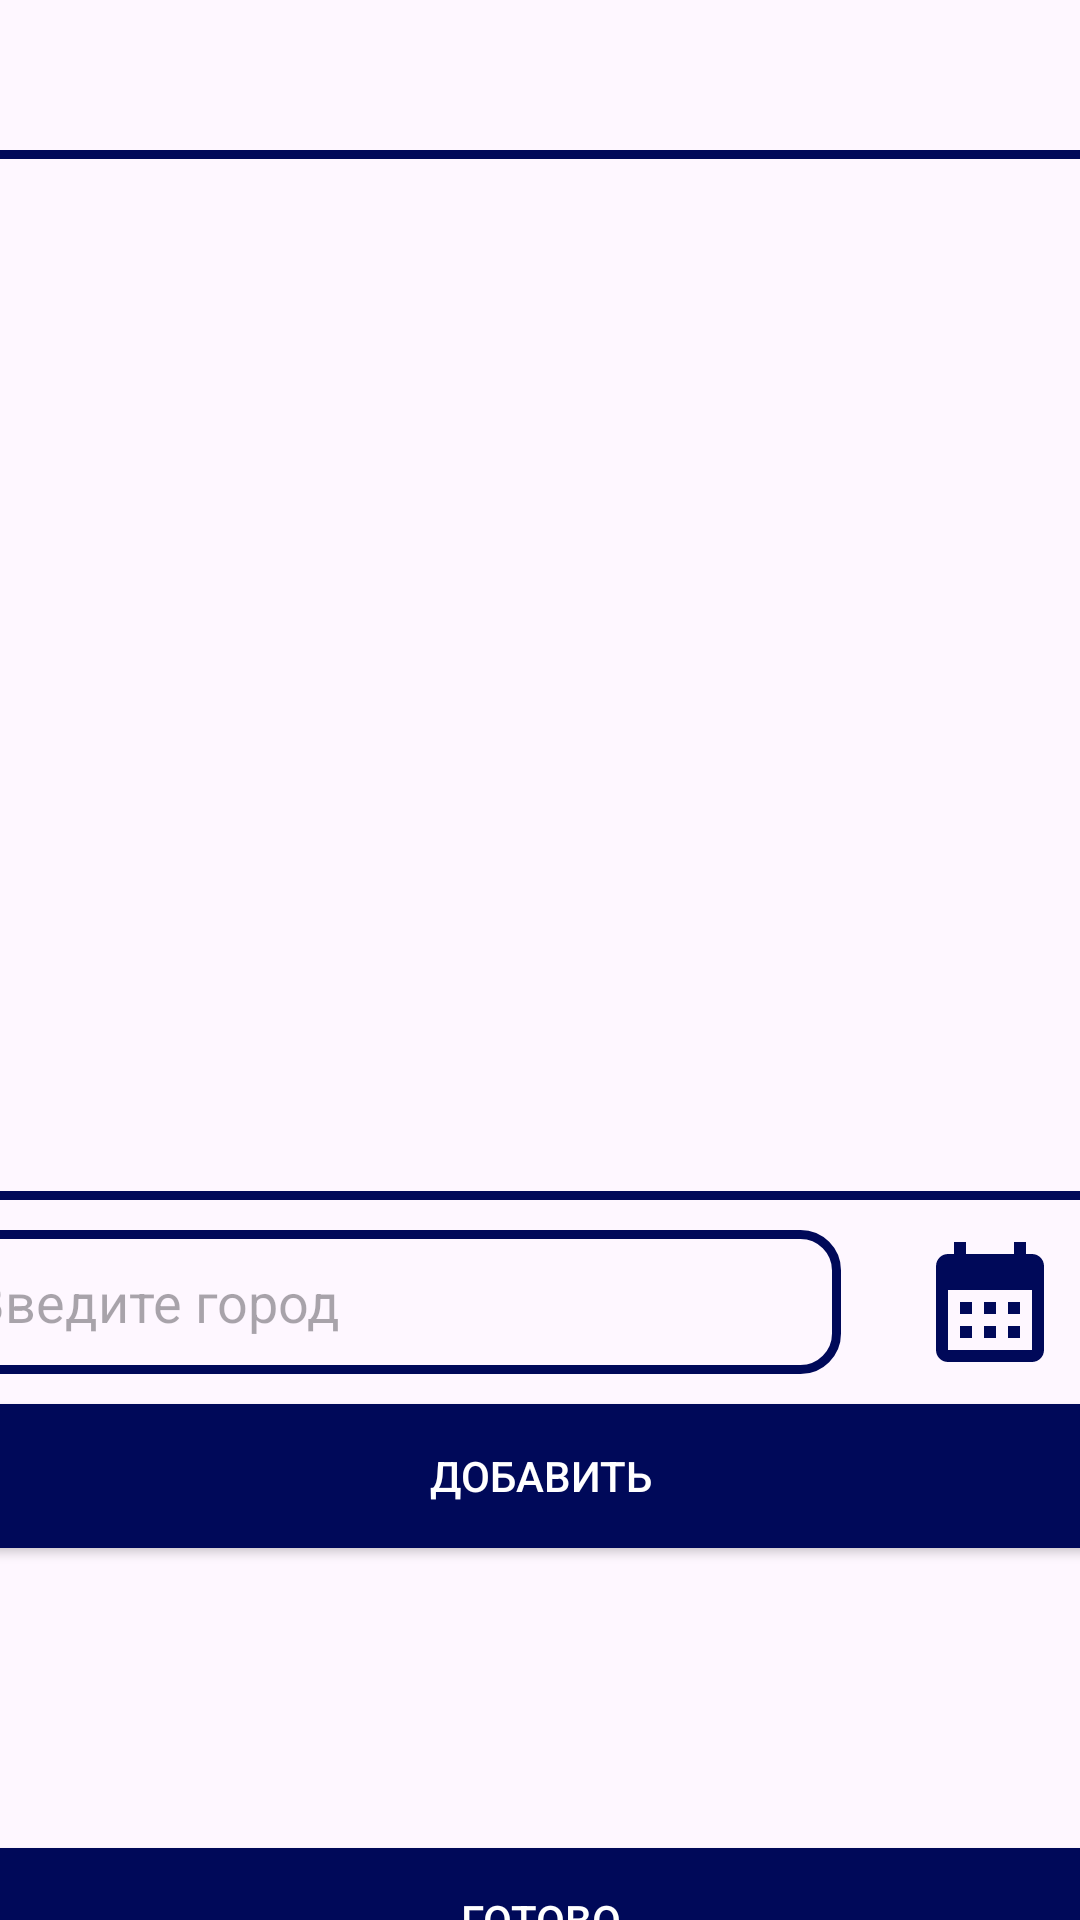

Named icons in this screenshot (1080×1920) and their centers, (x=x, y=y):
date picker: (x=990, y=1302)
